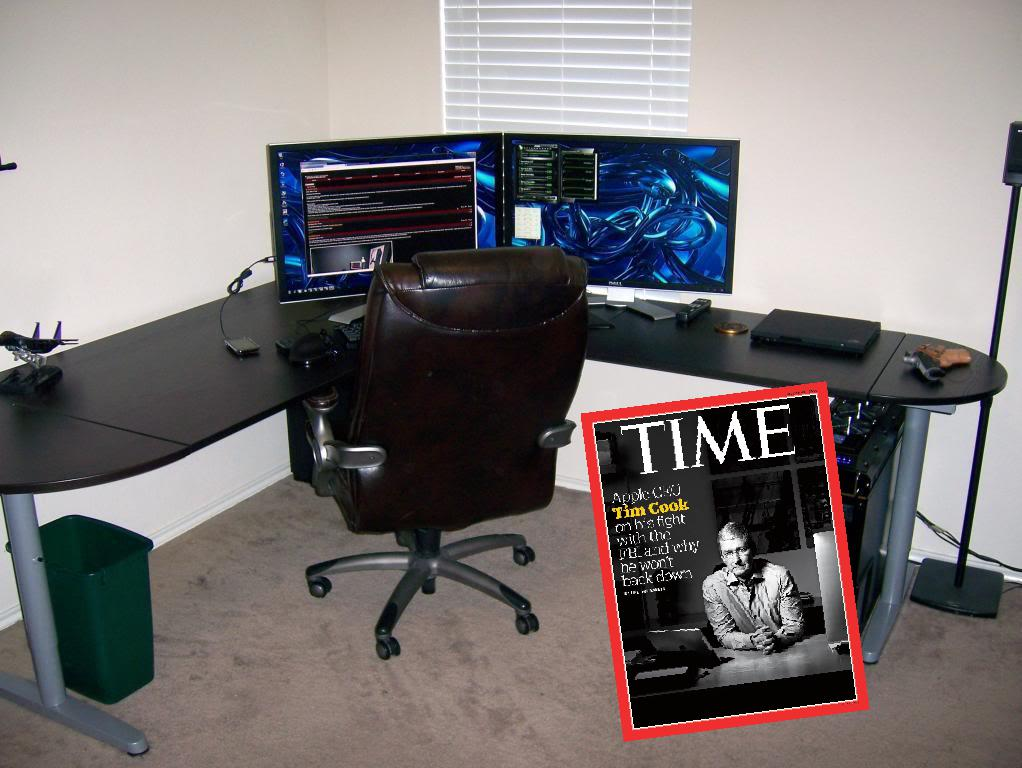times: (578, 374, 873, 743)
